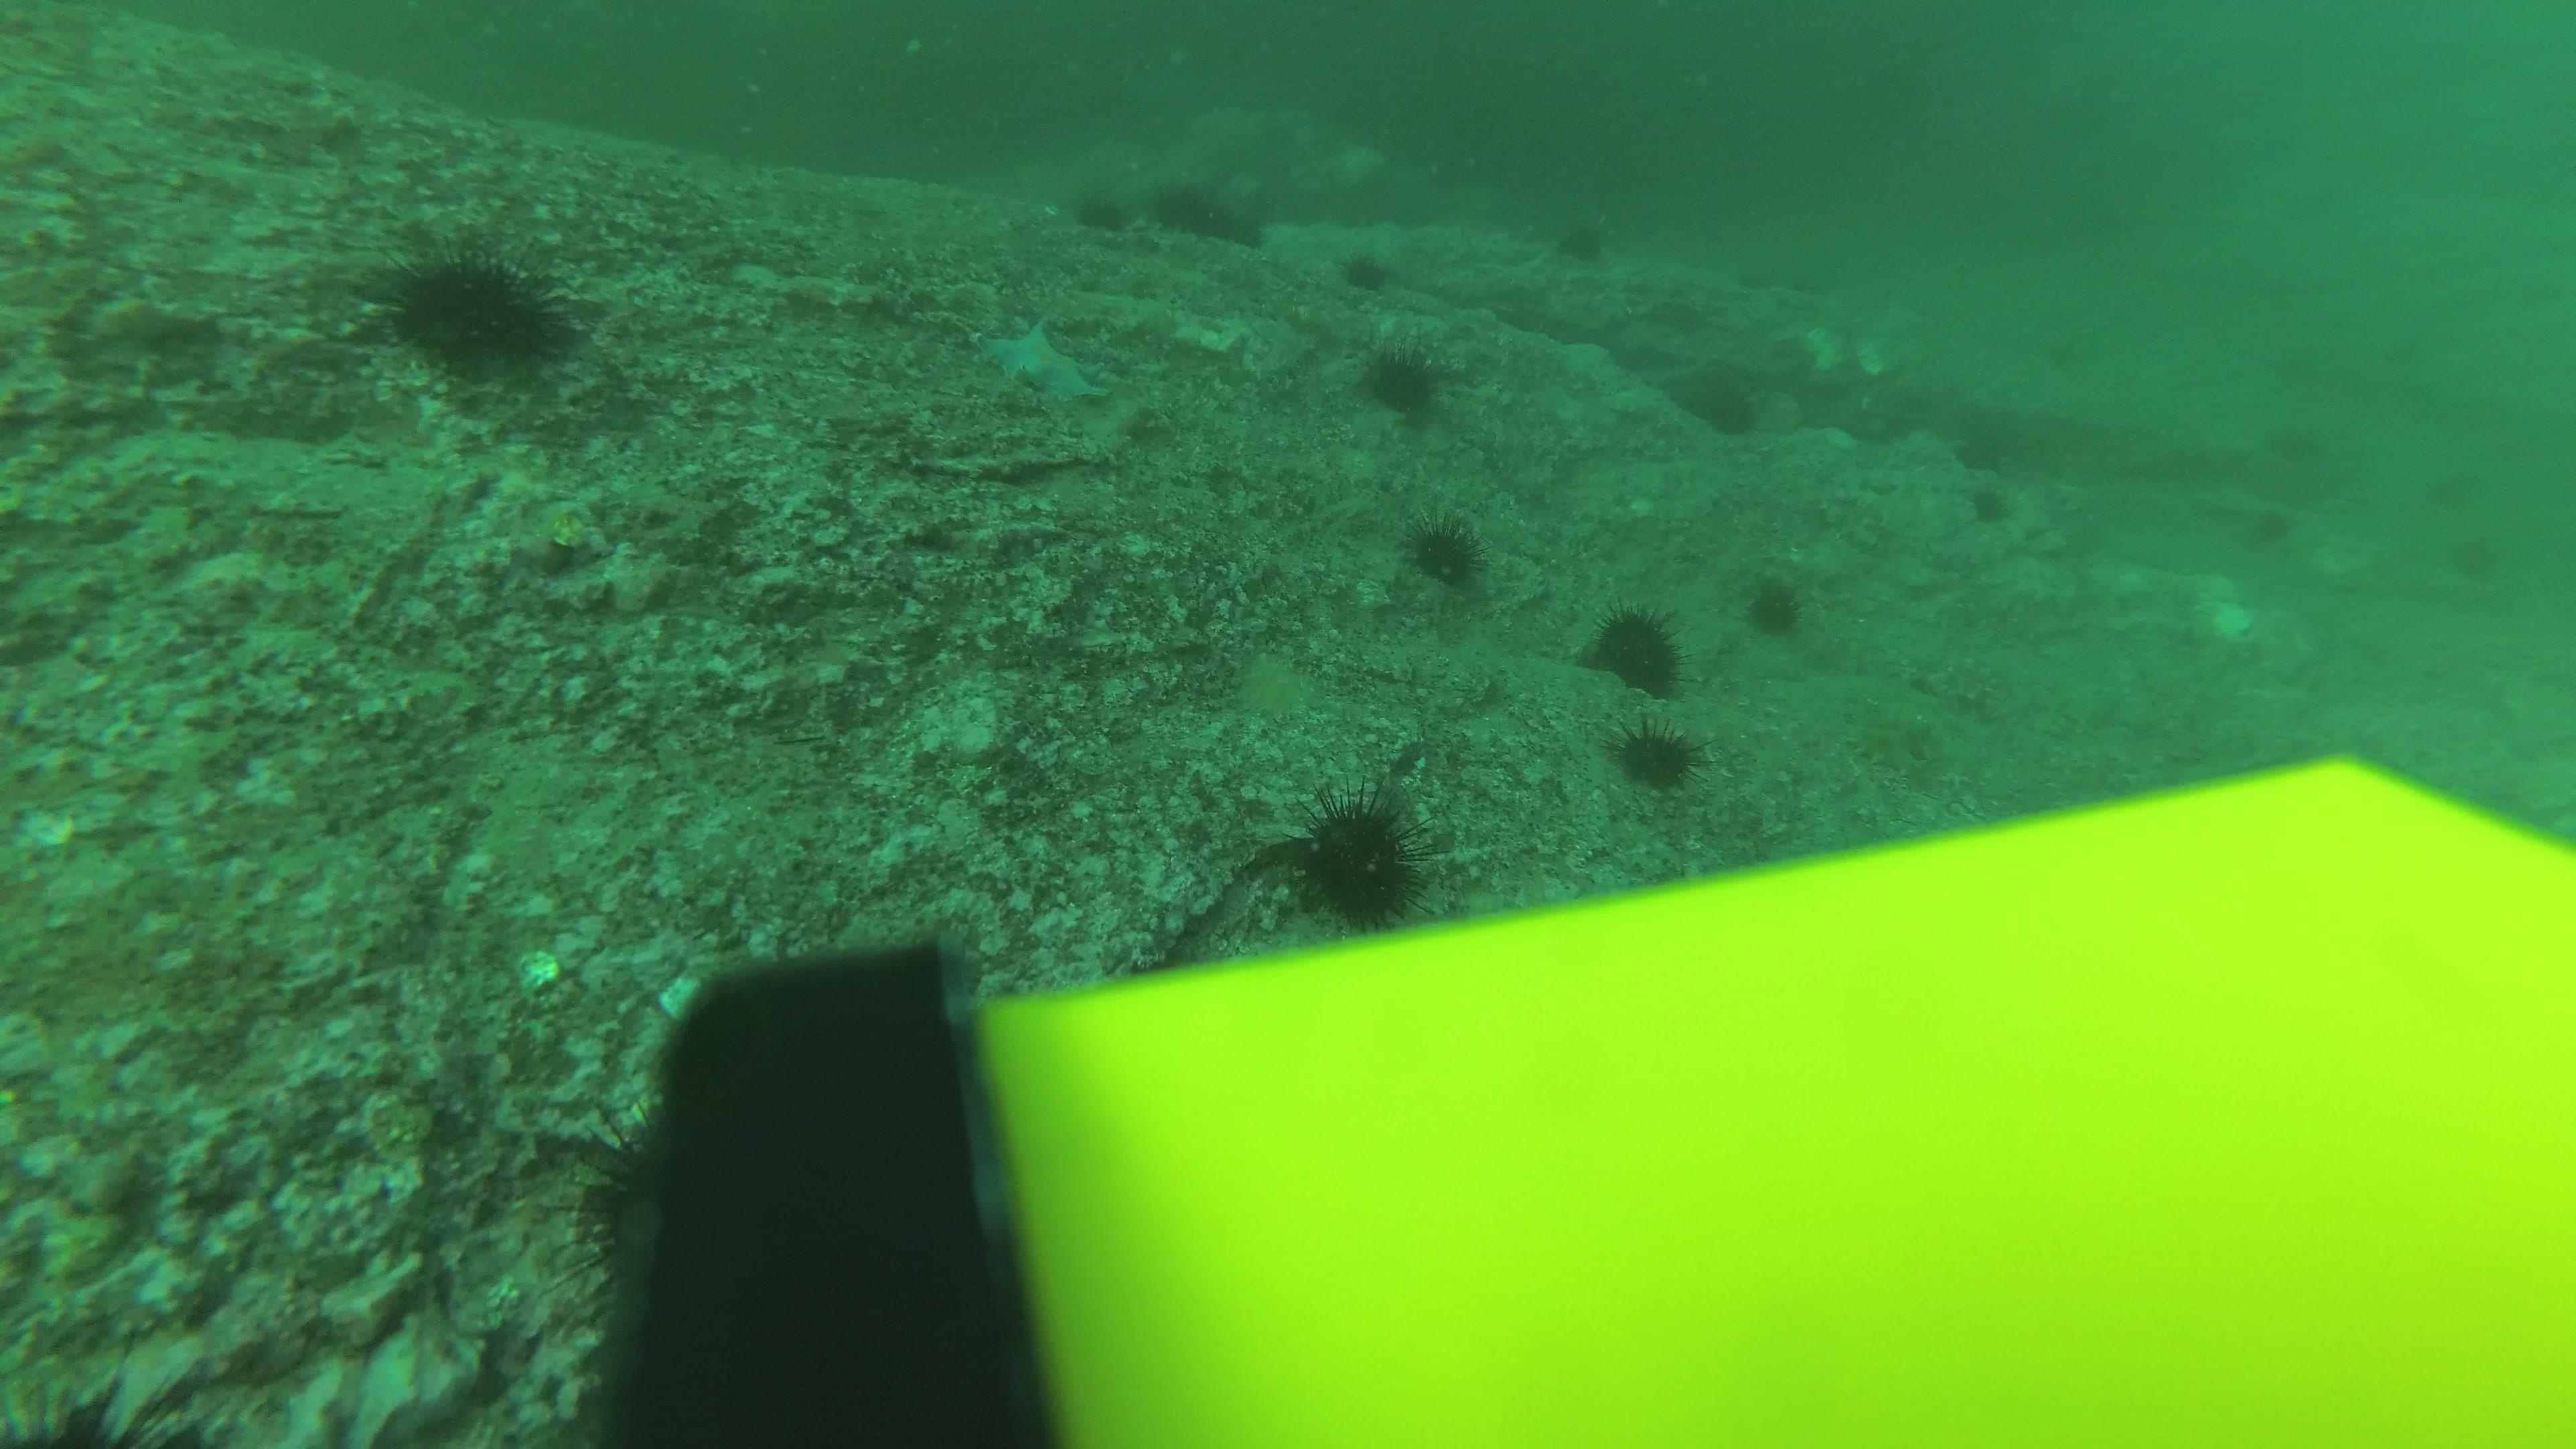echinus: (377, 242, 575, 379), (1284, 786, 1433, 931), (1585, 600, 1684, 697), (1614, 718, 1702, 791), (1403, 513, 1486, 589), (1361, 340, 1444, 416), (1743, 571, 1808, 637), (1697, 380, 1766, 439), (1951, 419, 2015, 481), (1550, 211, 1614, 267), (1146, 177, 1207, 235), (1336, 244, 1394, 294), (1072, 186, 1131, 235), (1962, 479, 2015, 527), (2245, 508, 2300, 554), (2265, 418, 2319, 464), (2450, 533, 2505, 579), (2422, 467, 2477, 513), (1231, 211, 1272, 251), (1196, 200, 1237, 241)
starfish: (975, 311, 1113, 407), (1845, 708, 1944, 780)
